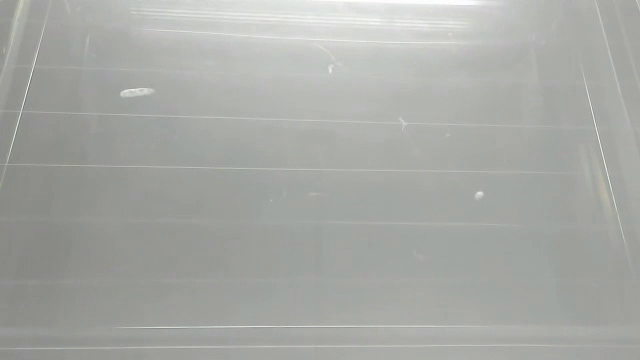alpha: (117, 86, 156, 100), (470, 187, 485, 203)
